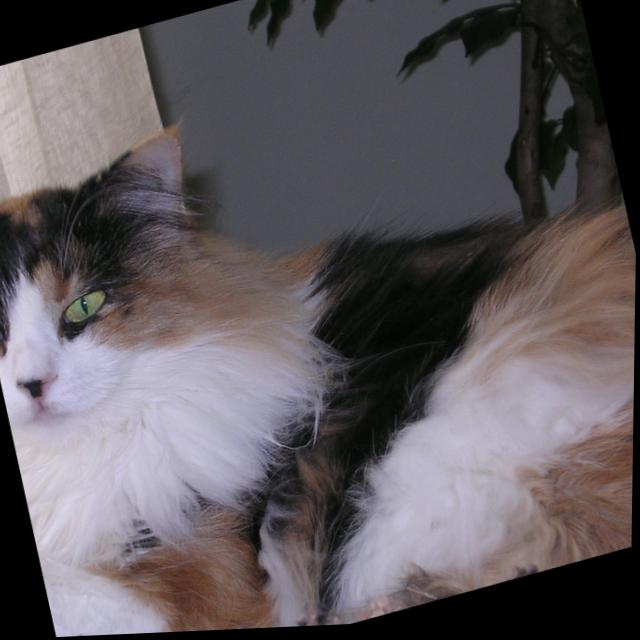animals: (0, 125, 217, 403)
